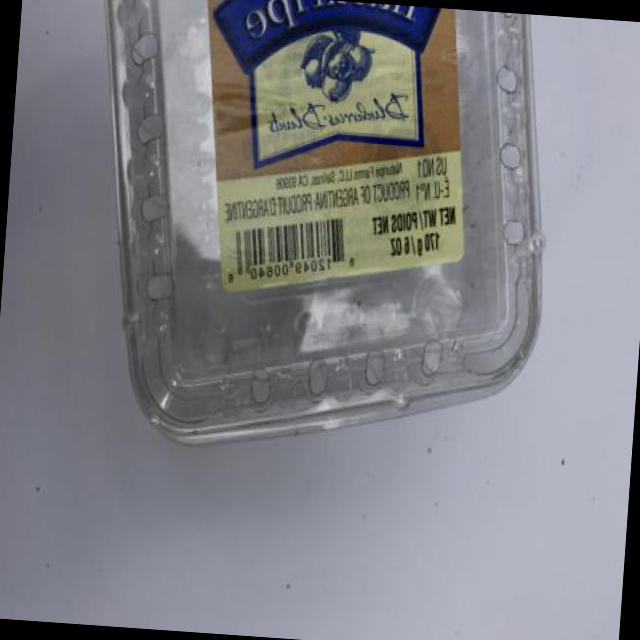plastic: (107, 0, 543, 442)
